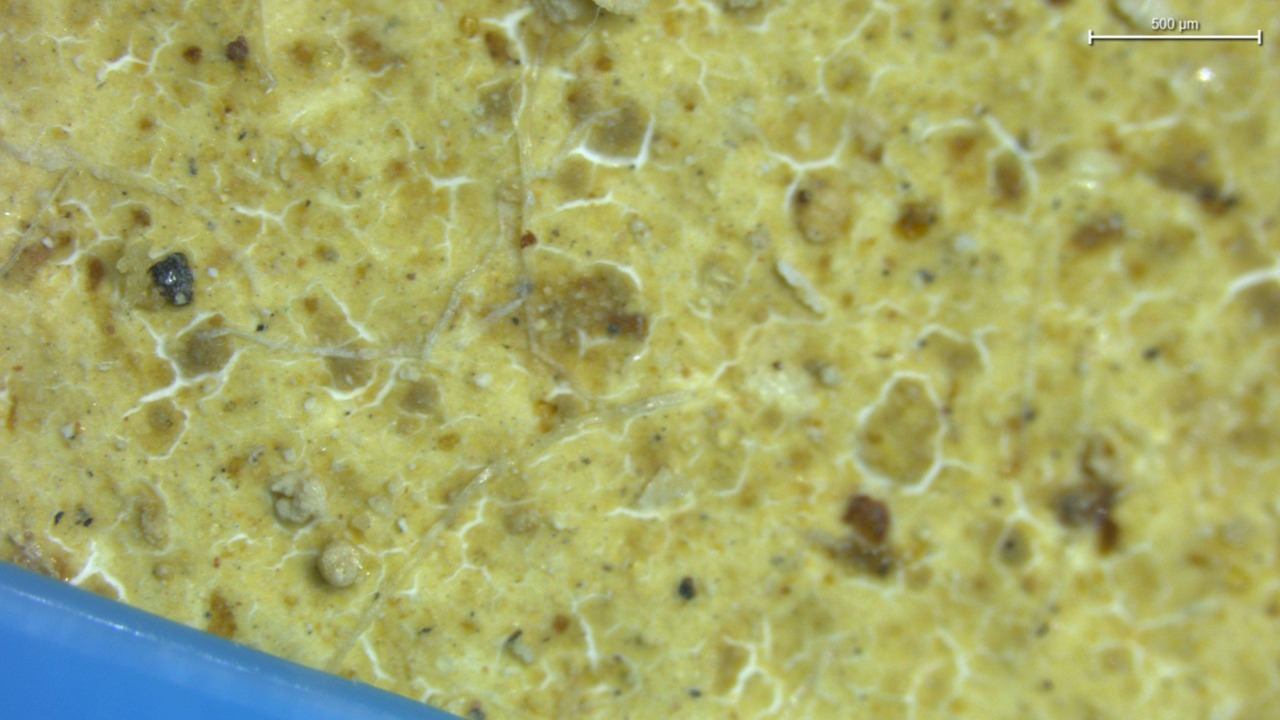microplastic_fragment: (150, 253, 194, 306), (317, 540, 362, 587)
